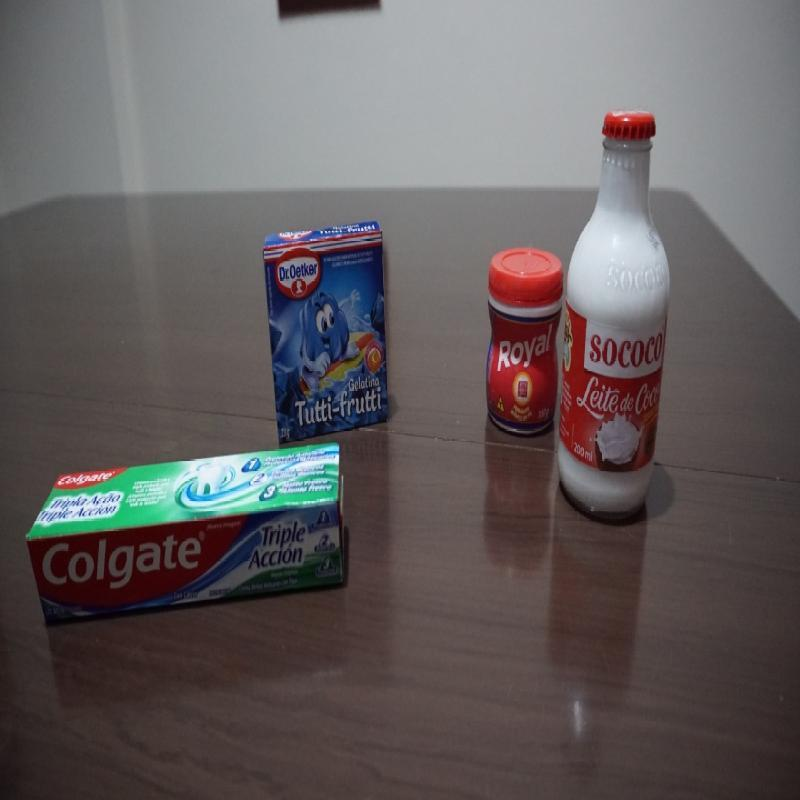Coconut Milk: (560, 106, 660, 518)
Gelatine: (259, 225, 390, 427)
Toothpaste: (23, 443, 346, 626)
Yeast: (485, 242, 562, 441)
